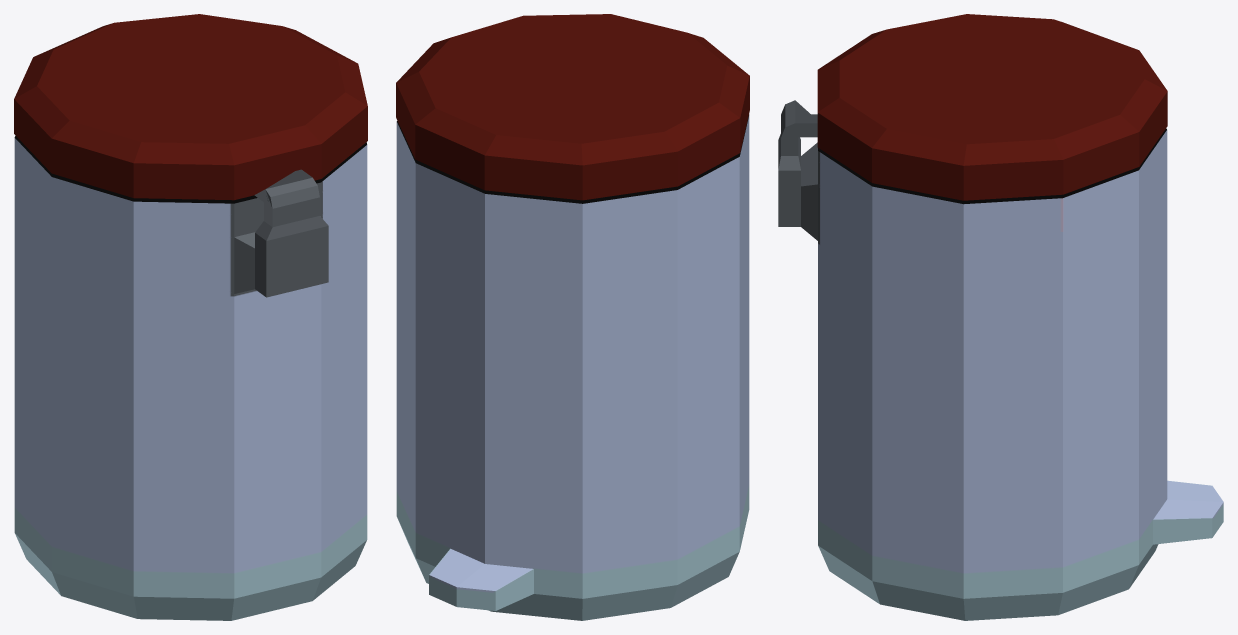
The model's file is small bin.fbx.
The picture shows the model from 3 angles, left to right: view 1: azimuth 30°, elevation 25°; view 2: azimuth 150°, elevation 25°; view 3: azimuth 270°, elevation 25°; orthographic projection.
Visible parts, largest first — view 1: Cylinder.003, Cylinder.004; view 2: Cylinder.003, Cylinder.004; view 3: Cylinder.003, Cylinder.004.
Boxes of the visible parts, bbox=[...] form: Cylinder.003: bbox=[14, 135, 367, 620]; Cylinder.004: bbox=[14, 14, 367, 200]; Cylinder.003: bbox=[396, 114, 749, 620]; Cylinder.004: bbox=[396, 14, 749, 200]; Cylinder.003: bbox=[778, 100, 1223, 620]; Cylinder.004: bbox=[817, 14, 1167, 200].
Bounding box in the file's own units: 0.7809 × 1.15 × 0.9831.
2 materials, 1 textured.
